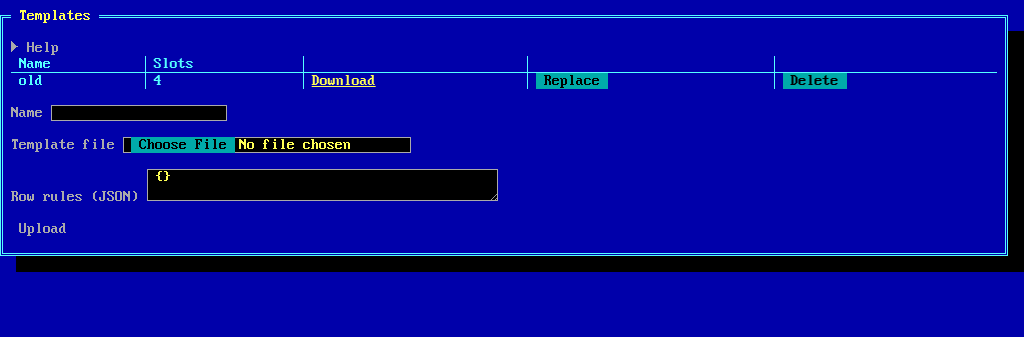
Scenario: Replace prefills the name and rules and lists the bindings that use the template
Click the button "Replace": (572, 81) left=536, top=73, right=608, bottom=89
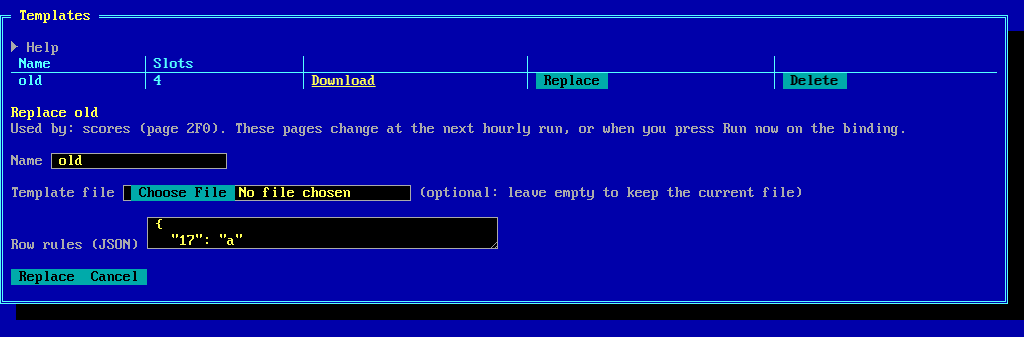
Result: the field named "name" holds "old" at left=51, top=153, right=227, bottom=169
Result: the text with class "used-by" shows "Used by: scores (page 2F0)" at left=11, top=121, right=907, bottom=137
Result: the text with class "used-by" shows "next hourly run, or when you press Run now" at left=11, top=121, right=907, bottom=137
